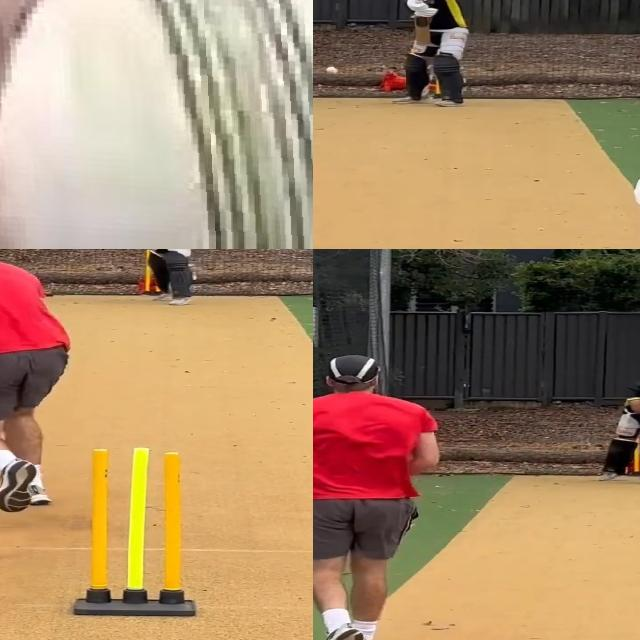Cricket ball: (0, 0, 313, 249), (325, 64, 340, 74)
Stumps: (70, 447, 206, 621)
